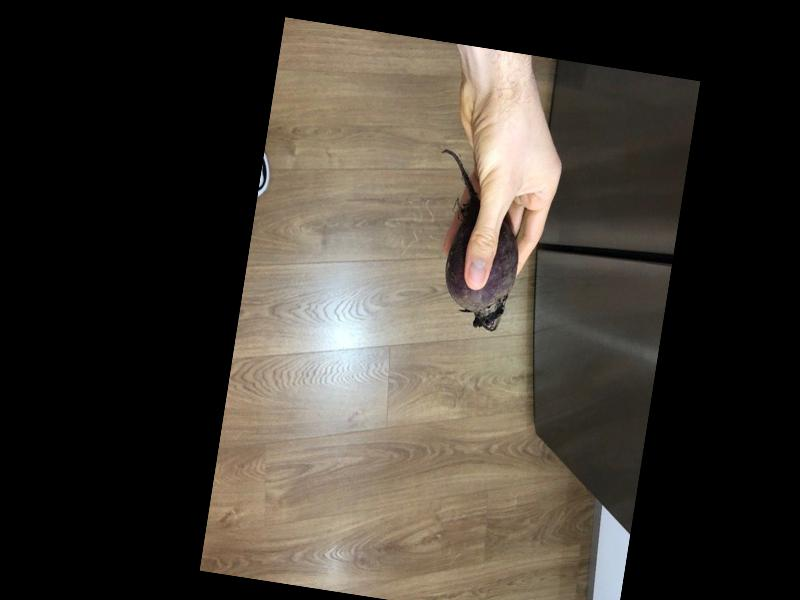Beet: (415, 150, 533, 335)
